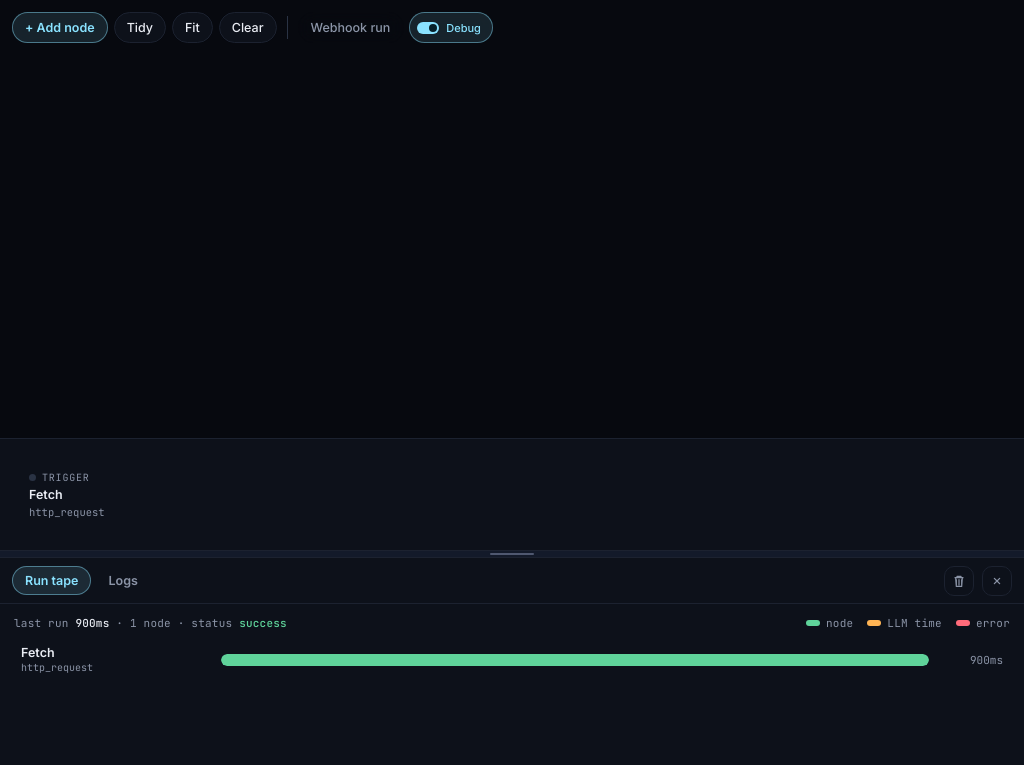
WorkflowCanvasArea › lists a node's activity and resolved fields in its expanded log row
Click the tab "Logs".
click(123, 580)  # box [96,566,151,595]
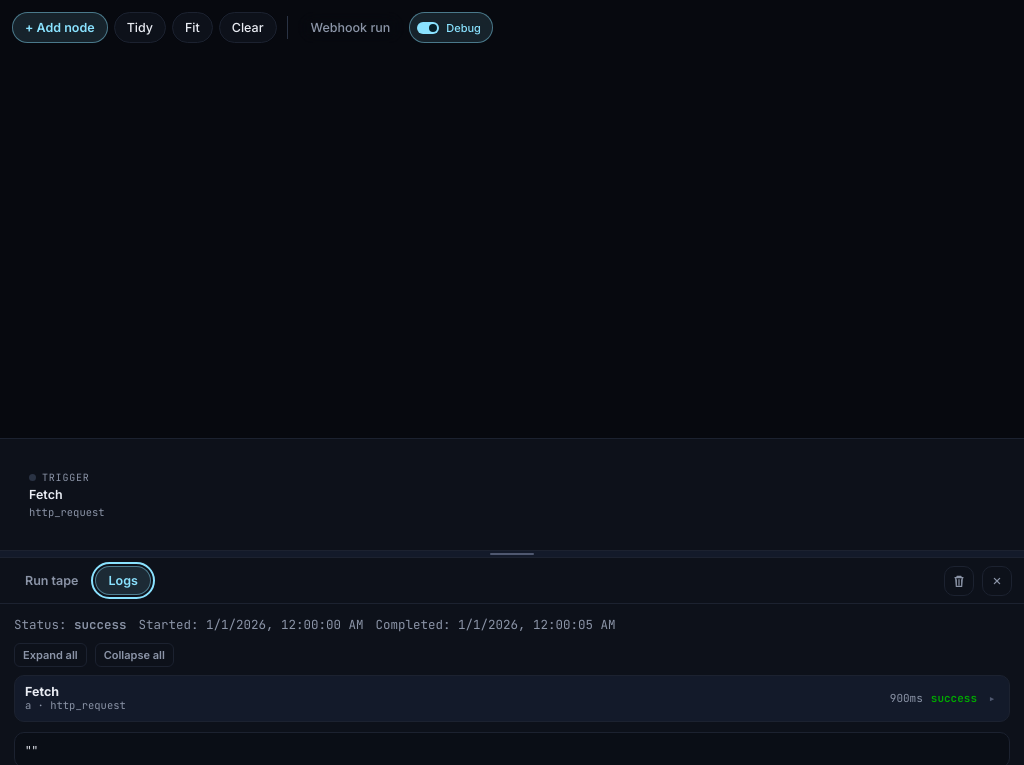
Click the button "Expand all".
click(50, 655)  # box [14,643,87,667]
(page scrolled)
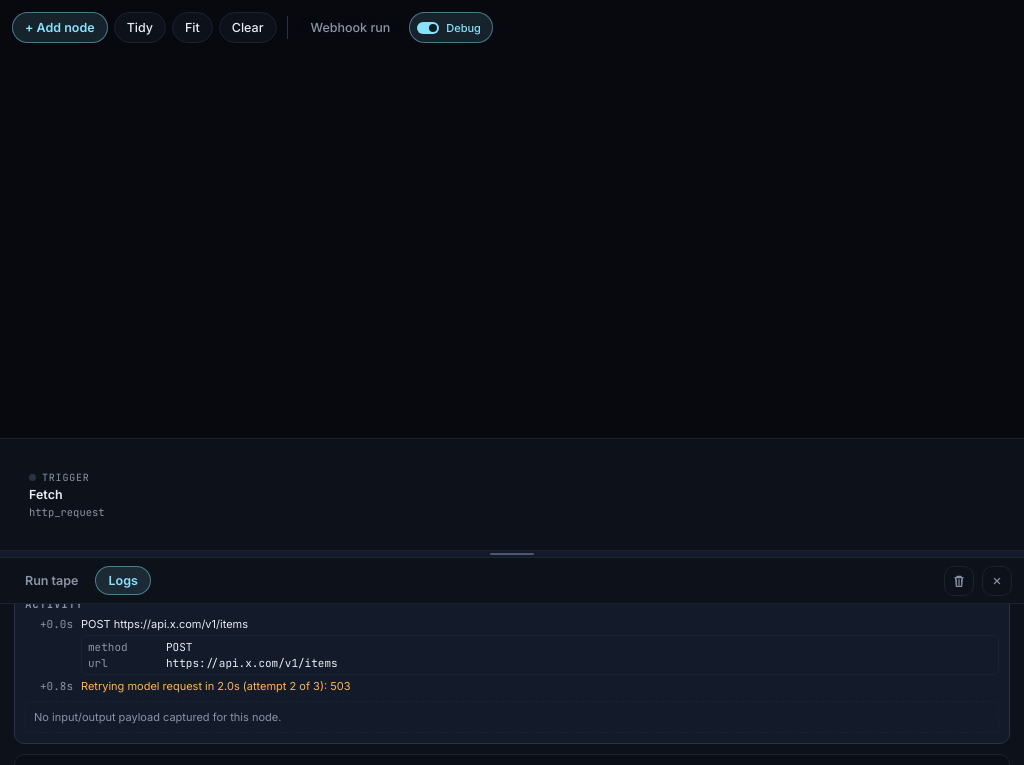
Expected: the text "POST https://api.x.com/v1/items" is shown, [81,617,248,631]
Expected: the element with test id "activity-resolved-fields" shows "method", [88,640,128,654]
Expected: the text "+0.8s" is shown, [40,679,73,693]
